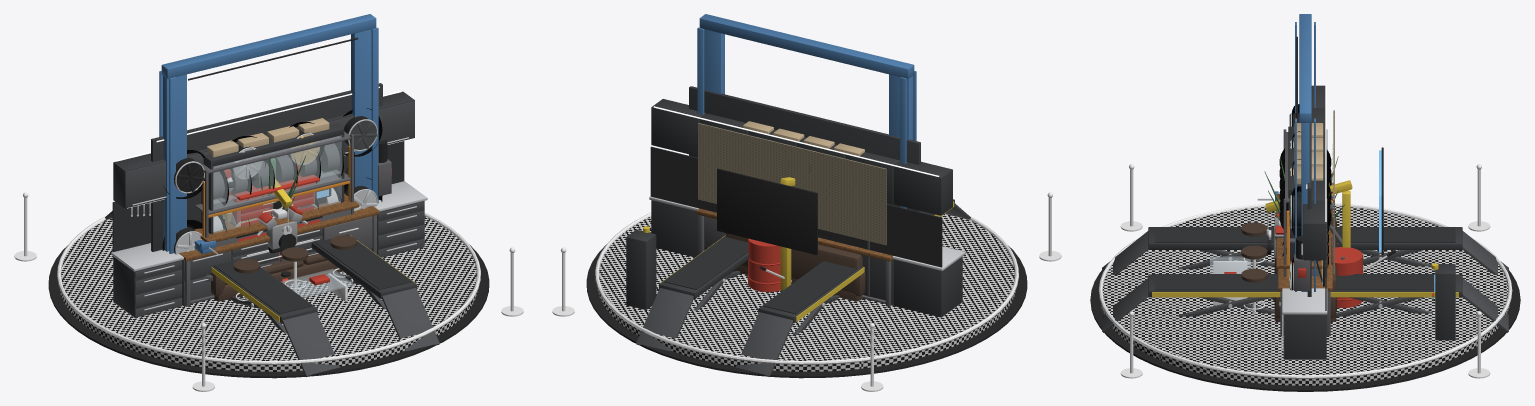
Rendered from garage.glb.
3 views of the same model, side by side, from view 1: azimuth 30°, elevation 25°; view 2: azimuth 150°, elevation 25°; view 3: azimuth 270°, elevation 25° (orthographic). The views are drawn at different scales.
Parts seen in each view (by area): view 1: g_podium_checker, g_lift_blue, g_cabinets_graphite2, g_trophycase_glass, g_wheelwall_graphite, g_scissor_graphite2, g_podium_black, g_cabinets_graphite, g_scissor_pegdark, g_cabinets_brushed, g_podium_chrome, g_shelf_darksteel (+23 smaller); view 2: g_podium_checker, g_cabinets_graphite, g_bench_pegboard, g_lift_blue, g_lounge_black, g_cabinets_pegdark, g_wheelwall_graphite, g_scissor_graphite2, g_podium_black, g_scissor_pegdark, g_scissor_graphite, g_podium_chrome (+10 smaller); view 3: g_podium_checker, g_scissor_pegdark, g_scissor_graphite2, g_cabinets_graphite, g_scissor_graphite, g_podium_black, g_podium_chrome, g_lift_blue, g_stanchions_chrome, g_scissor_yellow, g_cabinets_brushed, g_shelf_cardboard (+15 smaller).
Part boxes in pixels (x1=…): g_podium_checker: x1=59, y1=216, x2=478, y2=371; g_lift_blue: x1=159, y1=14, x2=378, y2=253; g_cabinets_graphite2: x1=125, y1=101, x2=424, y2=317; g_trophycase_glass: x1=213, y1=135, x2=341, y2=233; g_wheelwall_graphite: x1=151, y1=83, x2=382, y2=251; g_scissor_graphite2: x1=105, y1=211, x2=439, y2=376; g_podium_black: x1=48, y1=244, x2=489, y2=378; g_cabinets_graphite: x1=113, y1=91, x2=424, y2=317; g_scissor_pegdark: x1=214, y1=234, x2=411, y2=314; g_cabinets_brushed: x1=111, y1=137, x2=427, y2=310; g_podium_chrome: x1=57, y1=213, x2=480, y2=364; g_shelf_darksteel: x1=195, y1=131, x2=353, y2=276; g_podium_checker: x1=597, y1=213, x2=1016, y2=371; g_cabinets_graphite: x1=651, y1=99, x2=962, y2=317; g_bench_pegboard: x1=698, y1=123, x2=886, y2=245; g_lift_blue: x1=697, y1=14, x2=916, y2=208; g_lounge_black: x1=717, y1=168, x2=817, y2=254; g_cabinets_pegdark: x1=650, y1=146, x2=942, y2=267; g_wheelwall_graphite: x1=689, y1=86, x2=920, y2=212; g_scissor_graphite2: x1=636, y1=203, x2=970, y2=376; g_podium_black: x1=586, y1=244, x2=1027, y2=378; g_scissor_pegdark: x1=664, y1=211, x2=932, y2=314; g_scissor_graphite: x1=626, y1=199, x2=954, y2=323; g_podium_chrome: x1=595, y1=213, x2=1018, y2=364; g_podium_checker: x1=1101, y1=206, x2=1509, y2=385; g_scissor_pegdark: x1=1155, y1=227, x2=1455, y2=290; g_scissor_graphite2: x1=1102, y1=231, x2=1508, y2=332; g_cabinets_graphite: x1=1284, y1=85, x2=1326, y2=359; g_scissor_graphite: x1=1148, y1=227, x2=1462, y2=340; g_podium_black: x1=1090, y1=270, x2=1520, y2=391; g_podium_chrome: x1=1098, y1=203, x2=1512, y2=378; g_lift_blue: x1=1295, y1=14, x2=1315, y2=291; g_stanchions_chrome: x1=1120, y1=164, x2=1490, y2=378; g_scissor_yellow: x1=1152, y1=263, x2=1458, y2=297; g_cabinets_brushed: x1=1282, y1=243, x2=1327, y2=349; g_shelf_cardboard: x1=1294, y1=123, x2=1323, y2=184.
Size of the model in its own units: 6.3 by 3.88 by 6.3.
35 materials, 4 textured.
